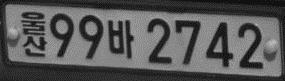2: (146, 17, 172, 64), (237, 21, 263, 68)
4: (205, 22, 233, 67)
7: (174, 19, 201, 65)
9: (48, 12, 75, 58), (77, 14, 103, 59)
바: (107, 19, 134, 59)
울산_V: (20, 11, 47, 57)
